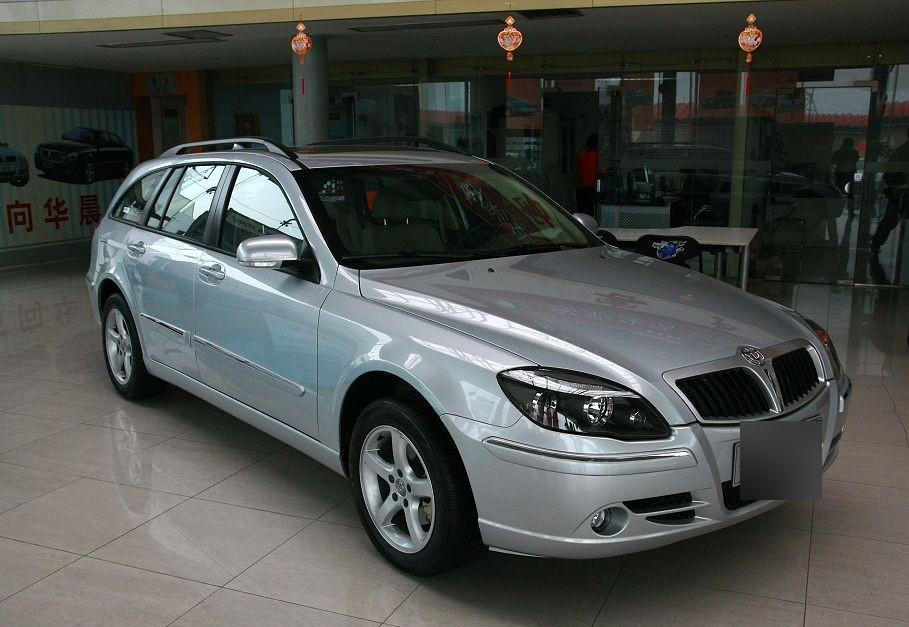Wagon: (83, 137, 854, 578)
